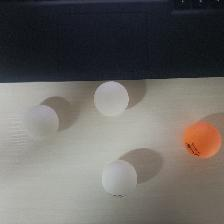WhiteBall: (99, 159, 137, 198), (92, 81, 129, 117), (22, 105, 58, 141)
YellowBall: (181, 122, 220, 160)
